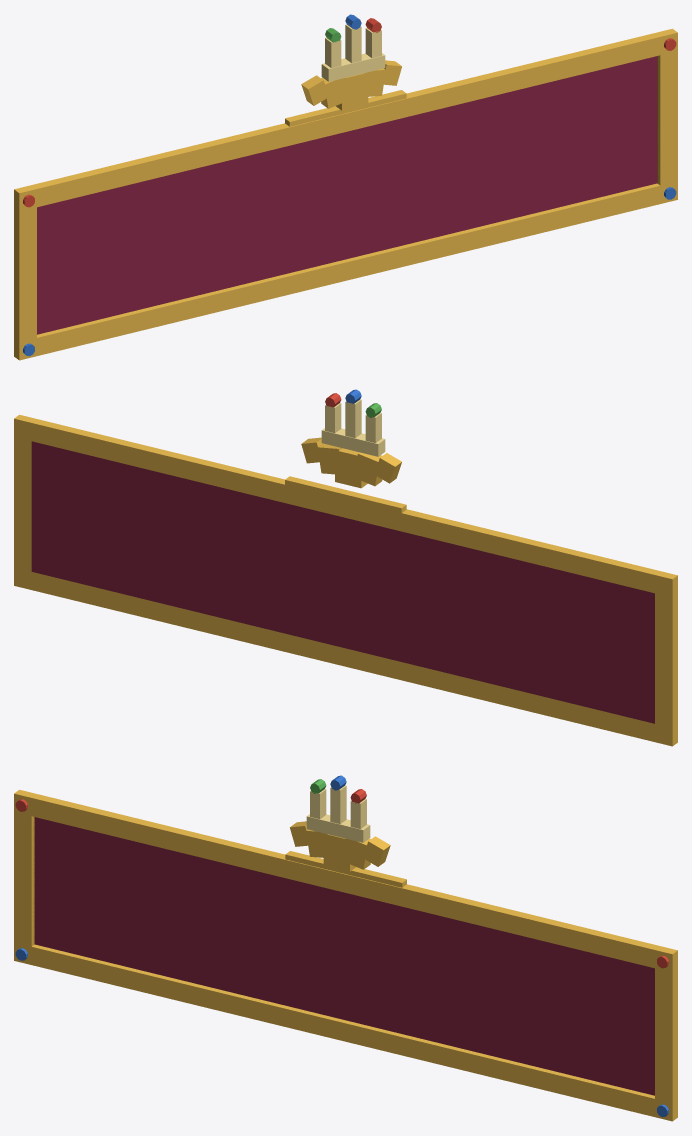
File: CatCafe_SignStyle_RoyalCrest.glb
3 views of the same model, one above another, from view 1: azimuth 30°, elevation 25°; view 2: azimuth 150°, elevation 25°; view 3: azimuth 330°, elevation 25° (orthographic).
Visible parts, largest first — view 1: CatCafe_SignStyle_RoyalCrest_SignBoard, CatCafe_SignStyle_RoyalCrest_Frame, CatCafe_SignStyle_RoyalCrest; view 2: CatCafe_SignStyle_RoyalCrest_SignBoard, CatCafe_SignStyle_RoyalCrest_Frame, CatCafe_SignStyle_RoyalCrest; view 3: CatCafe_SignStyle_RoyalCrest_SignBoard, CatCafe_SignStyle_RoyalCrest_Frame, CatCafe_SignStyle_RoyalCrest.
Boxes of the visible parts, x1,y1,x2,y2 form: CatCafe_SignStyle_RoyalCrest_SignBoard: (37,56,657,334); CatCafe_SignStyle_RoyalCrest_Frame: (14,28,677,360); CatCafe_SignStyle_RoyalCrest: (23,14,676,356); CatCafe_SignStyle_RoyalCrest_SignBoard: (31,441,654,723); CatCafe_SignStyle_RoyalCrest_Frame: (14,414,677,746); CatCafe_SignStyle_RoyalCrest: (285,389,406,513); CatCafe_SignStyle_RoyalCrest_SignBoard: (34,817,654,1095); CatCafe_SignStyle_RoyalCrest_Frame: (14,789,677,1121); CatCafe_SignStyle_RoyalCrest: (15,775,668,1117).
Size of the model in its own units: 16.9 by 6.54 by 0.61.
1 material, 1 textured.
